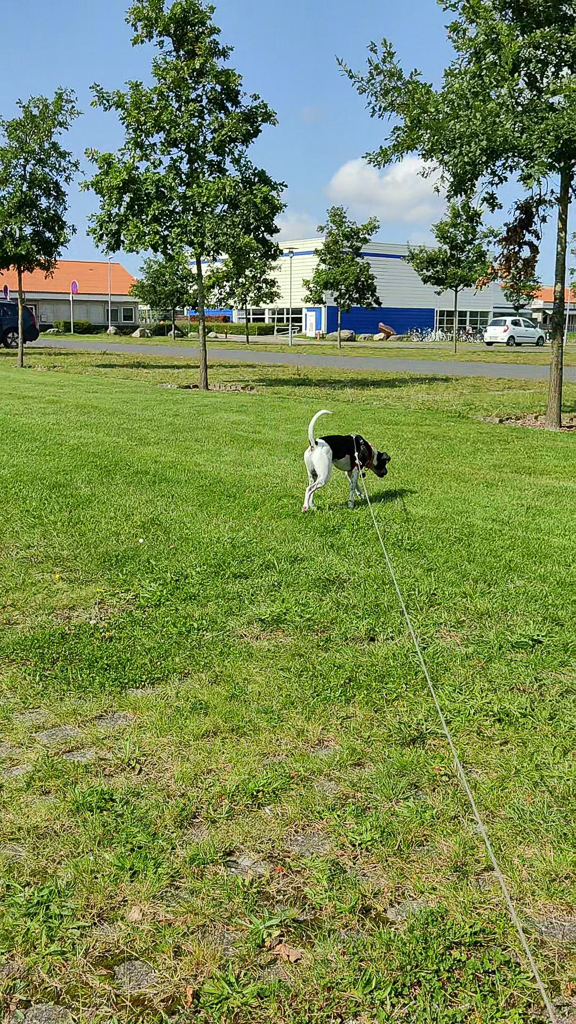Dog: (287, 399, 396, 517)
